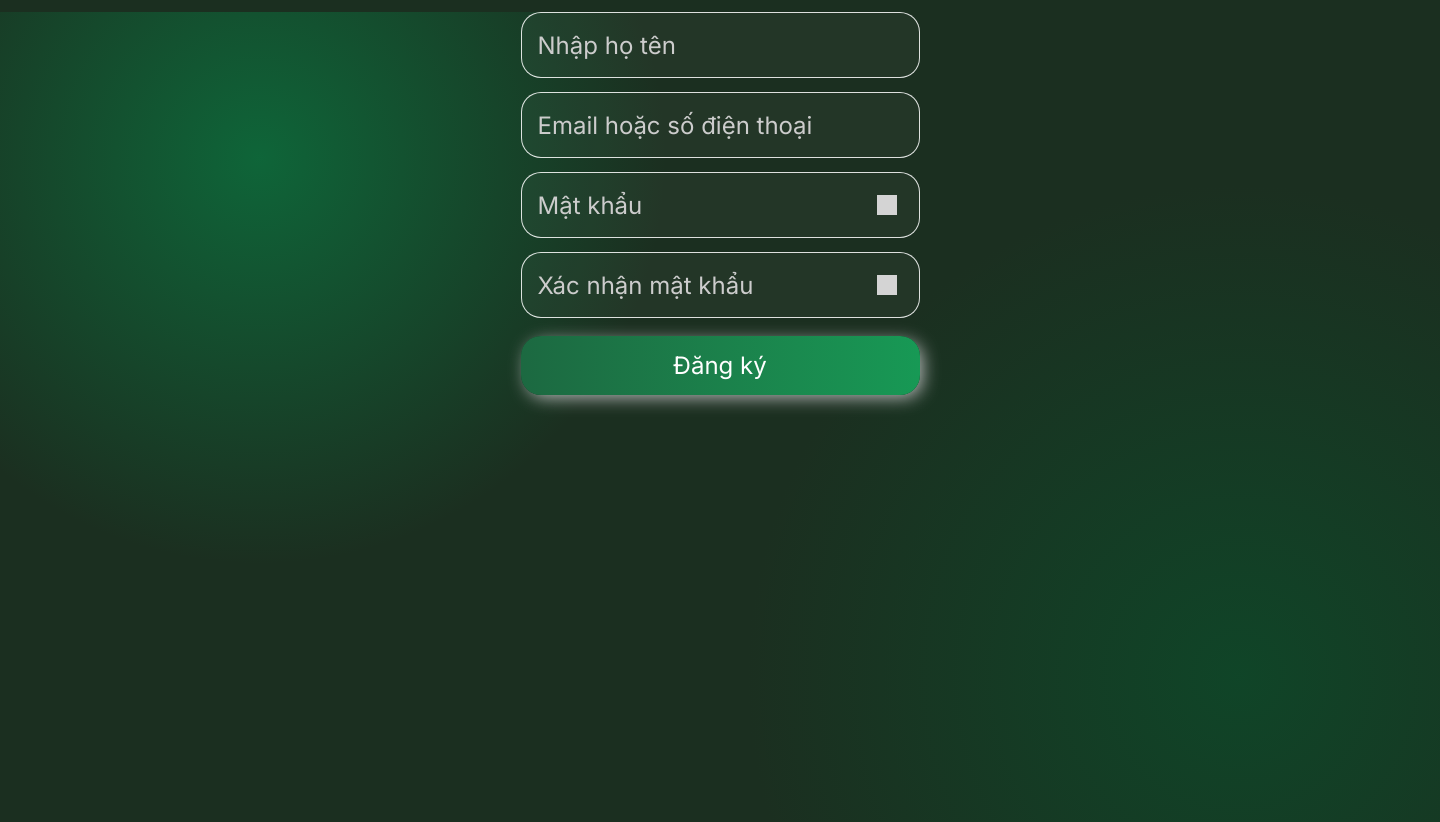
Test case: RegisterForm › shows validation errors for empty fields on submit
Click the button "Đăng ký" at (720, 366), box 520,336 -> 920,395
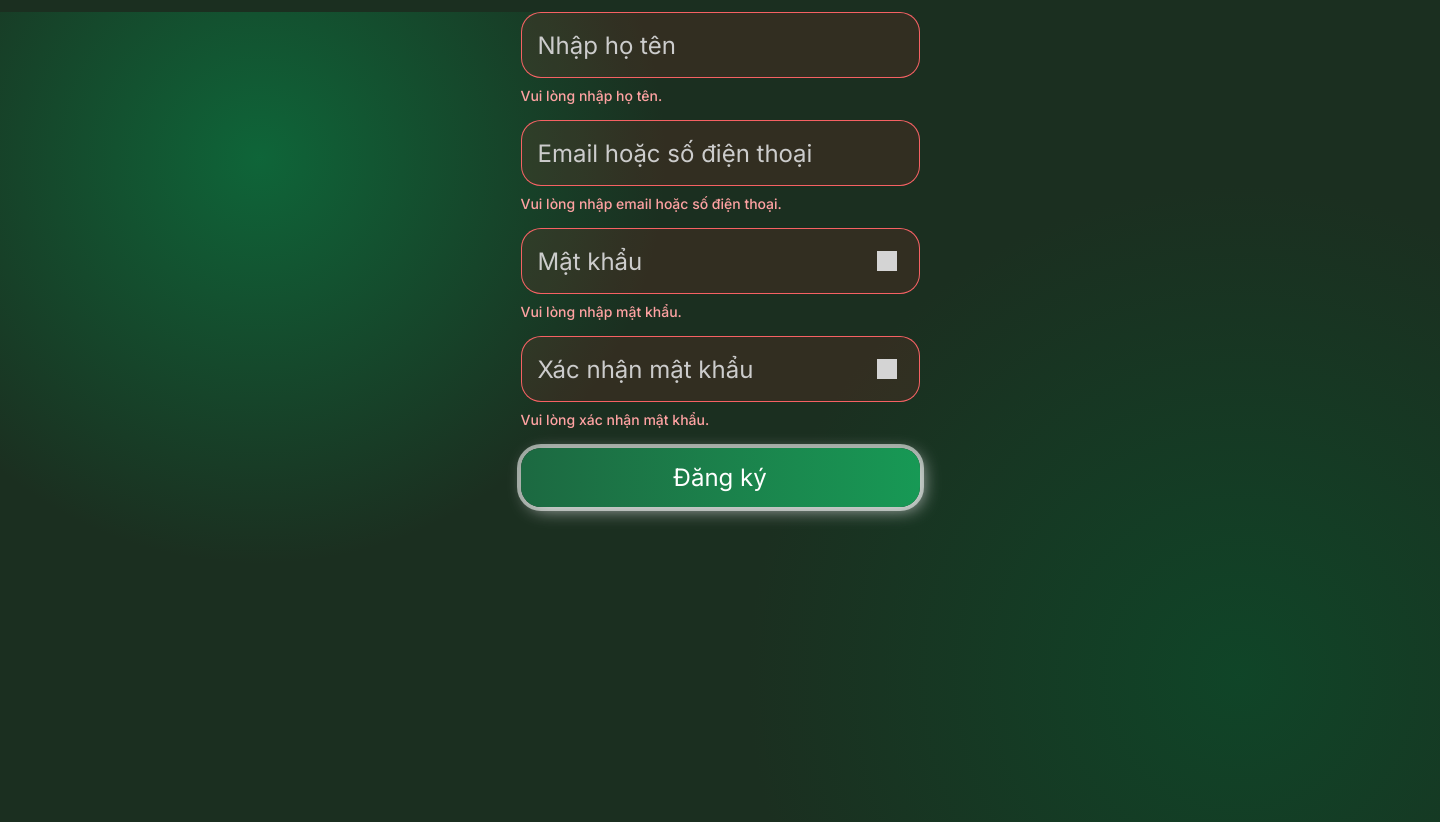
Now the text "Vui lòng nhập họ tên." is shown, box 520,87 -> 662,104
Now the text "Vui lòng nhập email hoặc số điện thoại." is shown, box 520,195 -> 782,212
Now the text "Vui lòng nhập mật khẩu." is shown, box 520,303 -> 682,320
